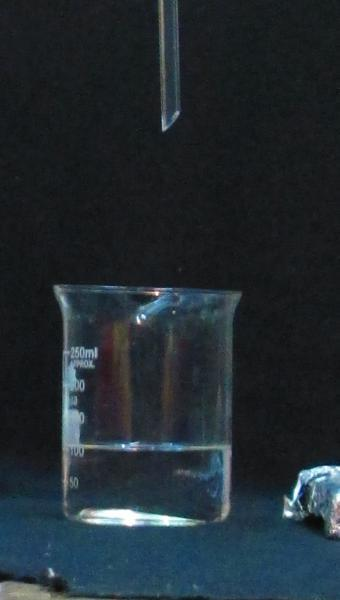Beaker: (48, 272, 244, 527)
